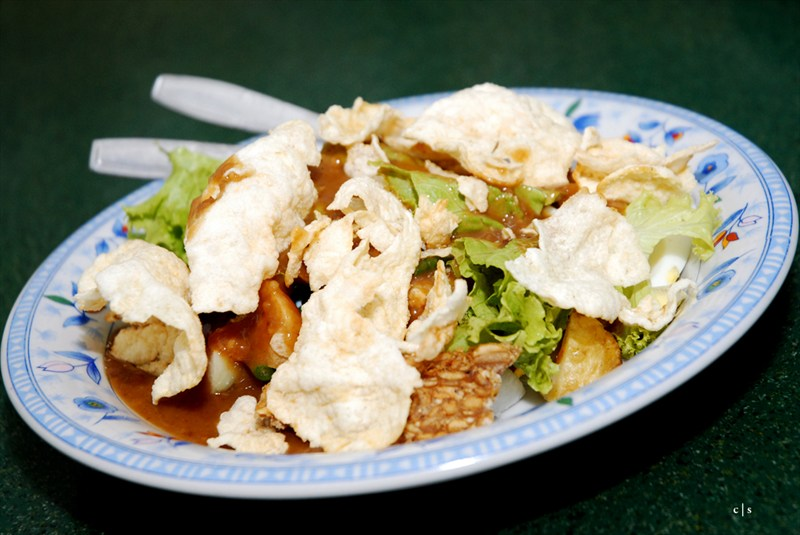Gado-Gado: (107, 97, 713, 460)
